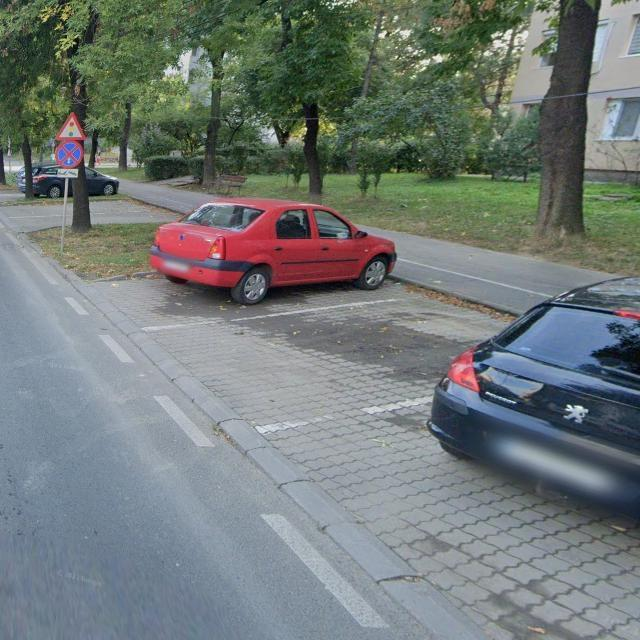forb_waiting: (55, 140, 84, 168)
